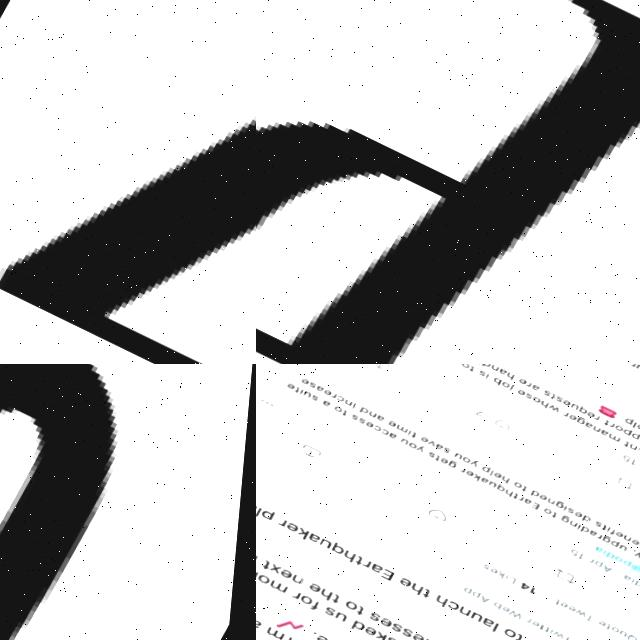0: (0, 364, 182, 640), (525, 580, 539, 591)
1: (575, 547, 587, 557), (625, 453, 637, 463)
A: (256, 617, 270, 628), (489, 616, 503, 627), (377, 562, 391, 573), (314, 532, 329, 542), (486, 593, 499, 604), (608, 562, 621, 573), (256, 500, 264, 511), (629, 572, 640, 580), (325, 399, 335, 407), (380, 413, 390, 421), (319, 383, 329, 391), (604, 428, 614, 436), (601, 544, 610, 552), (393, 431, 402, 439), (502, 366, 511, 374), (439, 442, 449, 449), (486, 476, 494, 484), (589, 421, 598, 428), (536, 383, 544, 390), (596, 530, 604, 536), (530, 498, 538, 504)
B: (499, 600, 511, 609), (495, 376, 507, 385)
C: (454, 598, 469, 610), (384, 427, 394, 435), (377, 424, 387, 432), (340, 394, 350, 402)
D: (359, 618, 375, 632), (585, 524, 597, 534), (363, 405, 375, 415), (612, 550, 623, 560), (536, 488, 546, 498), (588, 514, 598, 522), (484, 364, 495, 368)
E: (387, 567, 403, 580), (314, 580, 330, 592), (371, 624, 386, 636), (386, 616, 401, 627), (292, 521, 306, 532), (287, 568, 301, 578), (406, 576, 420, 586), (419, 631, 434, 640), (323, 633, 338, 640), (536, 500, 546, 510), (470, 468, 481, 476), (498, 470, 509, 478), (540, 618, 550, 626), (509, 604, 519, 612), (605, 618, 615, 626), (575, 604, 585, 612), (567, 600, 577, 608), (496, 566, 506, 574), (424, 434, 434, 442), (392, 418, 402, 426), (304, 376, 314, 384), (572, 412, 582, 420), (520, 388, 530, 396), (590, 410, 600, 418), (566, 398, 576, 406), (289, 382, 300, 389), (370, 420, 379, 428), (622, 529, 631, 537), (580, 510, 589, 518), (327, 387, 336, 395), (522, 376, 531, 384), (445, 456, 453, 464), (545, 492, 553, 500), (256, 548, 261, 559), (256, 563, 259, 574), (637, 537, 640, 545)
F: (317, 598, 328, 610), (615, 527, 622, 535)
G: (566, 513, 578, 523), (579, 414, 591, 424), (453, 459, 464, 468), (561, 499, 572, 508), (608, 534, 619, 542)
H: (326, 586, 341, 600), (441, 594, 456, 607), (416, 582, 431, 595), (349, 550, 364, 562), (510, 488, 519, 496), (506, 474, 515, 482), (544, 399, 553, 407), (509, 372, 518, 378)
I: (608, 548, 614, 556), (411, 428, 417, 436), (302, 388, 308, 395), (568, 504, 574, 511), (488, 372, 494, 379), (556, 628, 562, 634), (511, 574, 517, 580), (355, 402, 361, 408), (583, 523, 588, 530), (613, 526, 618, 532), (637, 576, 640, 583)
J: (512, 382, 521, 392)
K: (301, 526, 316, 540), (381, 629, 395, 640), (477, 472, 487, 481), (503, 570, 512, 578)
L: (258, 554, 266, 564), (500, 622, 508, 631), (515, 576, 524, 584), (261, 507, 268, 516), (495, 468, 500, 476), (636, 420, 640, 427)
M: (274, 626, 294, 640), (276, 579, 296, 593), (400, 422, 413, 432), (613, 432, 625, 441)
N: (466, 604, 480, 616), (297, 574, 312, 584), (373, 409, 383, 417), (348, 398, 358, 406), (553, 496, 562, 504), (597, 424, 606, 432), (575, 520, 584, 526), (629, 534, 638, 540), (494, 364, 502, 370), (431, 637, 445, 640), (634, 442, 640, 449)
O: (351, 599, 367, 611), (511, 626, 526, 638), (264, 572, 279, 584), (307, 593, 321, 604), (621, 554, 632, 562), (548, 506, 559, 514), (412, 441, 423, 449), (466, 454, 477, 462), (618, 424, 629, 432), (619, 625, 629, 633), (338, 405, 348, 413), (519, 480, 529, 488), (505, 380, 515, 388), (536, 394, 545, 402), (298, 637, 314, 640), (464, 364, 473, 368)
P: (256, 0, 640, 364), (265, 506, 282, 520), (480, 588, 490, 598), (601, 558, 612, 567), (628, 415, 639, 424), (471, 584, 482, 593), (629, 557, 639, 566), (617, 538, 627, 547), (487, 463, 497, 472), (627, 426, 637, 434), (635, 430, 640, 439)
Q: (337, 540, 353, 554), (582, 404, 594, 414), (501, 482, 512, 492), (633, 632, 640, 640)
R: (298, 589, 309, 599), (256, 568, 266, 578), (285, 517, 294, 526), (369, 558, 379, 566), (291, 634, 301, 640), (523, 494, 531, 501), (598, 412, 605, 420), (602, 532, 609, 539), (465, 466, 472, 473), (334, 391, 341, 398), (567, 409, 574, 416), (613, 419, 620, 426), (529, 380, 536, 387), (534, 616, 541, 622), (595, 556, 602, 562), (633, 364, 639, 366)
S: (331, 604, 345, 616), (409, 626, 423, 637), (376, 611, 390, 622), (398, 622, 411, 632), (489, 562, 499, 570), (431, 450, 441, 458), (361, 416, 371, 424), (353, 412, 363, 420), (600, 519, 610, 527), (447, 446, 457, 454), (315, 394, 324, 402), (572, 506, 581, 514), (481, 368, 490, 376), (547, 388, 556, 396), (394, 635, 407, 640), (560, 394, 568, 402), (312, 380, 321, 387), (529, 392, 537, 398)
T: (338, 592, 349, 604), (268, 559, 279, 570), (361, 554, 372, 565), (363, 605, 374, 615), (429, 588, 440, 598), (593, 612, 604, 622), (569, 633, 582, 640), (522, 632, 533, 640), (547, 622, 555, 630), (526, 484, 534, 492), (345, 409, 354, 416), (552, 625, 560, 632), (613, 623, 621, 630), (557, 511, 565, 518), (439, 454, 447, 461), (297, 385, 305, 392), (415, 430, 423, 437), (628, 440, 636, 447), (472, 364, 479, 372), (607, 523, 614, 530), (562, 598, 568, 604), (518, 492, 524, 498), (608, 419, 614, 425), (554, 393, 560, 399)
U: (478, 610, 492, 622), (325, 537, 340, 548), (342, 610, 356, 621), (625, 544, 635, 552), (306, 390, 316, 398), (574, 401, 584, 409), (493, 480, 502, 487), (459, 451, 468, 458), (628, 629, 636, 636), (405, 438, 414, 444)
V: (432, 438, 441, 446)
W: (515, 608, 532, 620), (551, 402, 565, 412), (561, 629, 573, 638), (583, 608, 595, 616)
X: (276, 562, 290, 574)
Y: (421, 444, 431, 452), (475, 458, 484, 466)
Z: (0, 0, 256, 364)
